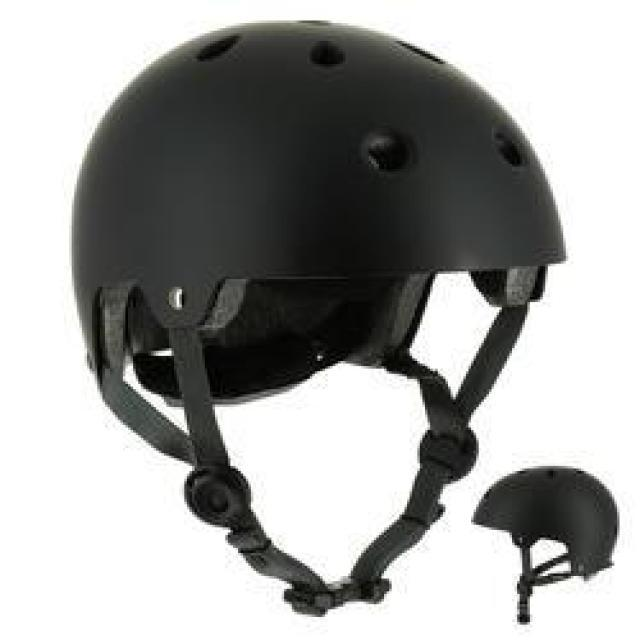helmet: (39, 12, 616, 627)
